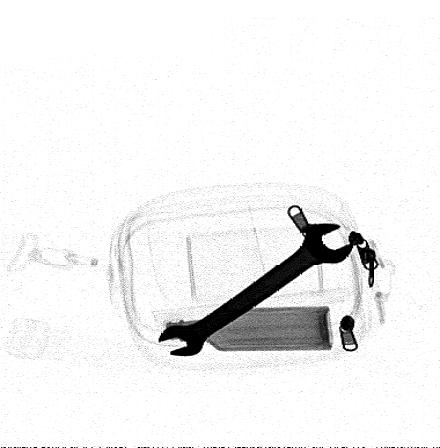Wrench: (155, 222, 356, 359)
